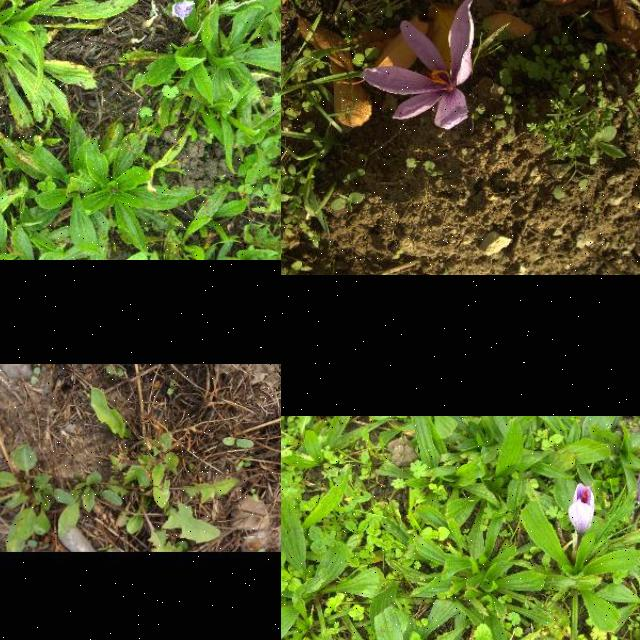flower: (361, 0, 475, 131), (568, 483, 596, 535)
